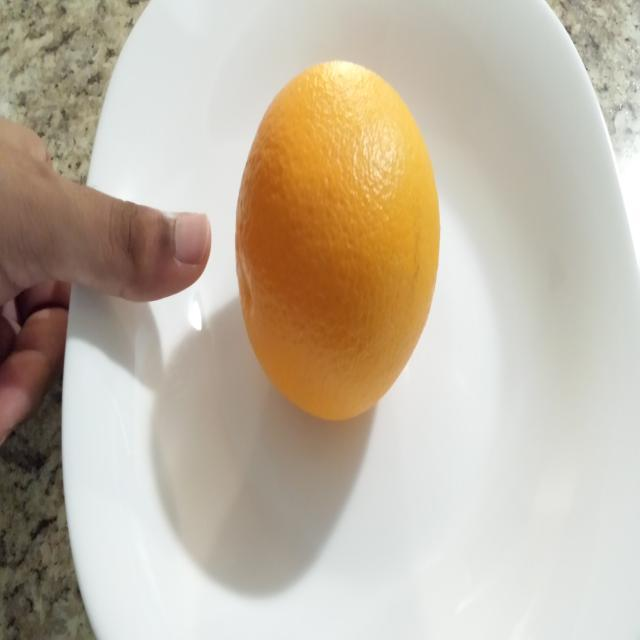Orange: (233, 29, 449, 438)
